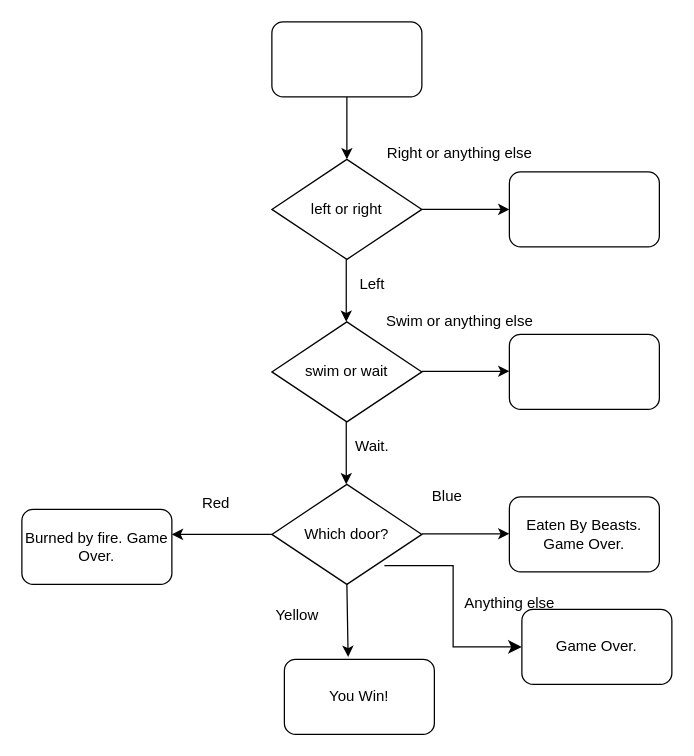
This 694x756 diagram has some shape labels left out. The shapes that lost their labels are listed below. From the top down, each one's centre as x and y in pixels, then its label:
At pixel 346 59: "Welcome to Treasure Island".
At pixel 583 209: "Fall into a hole. Game Over.".
At pixel 583 371: "Attacked by trout. Game Over.".
